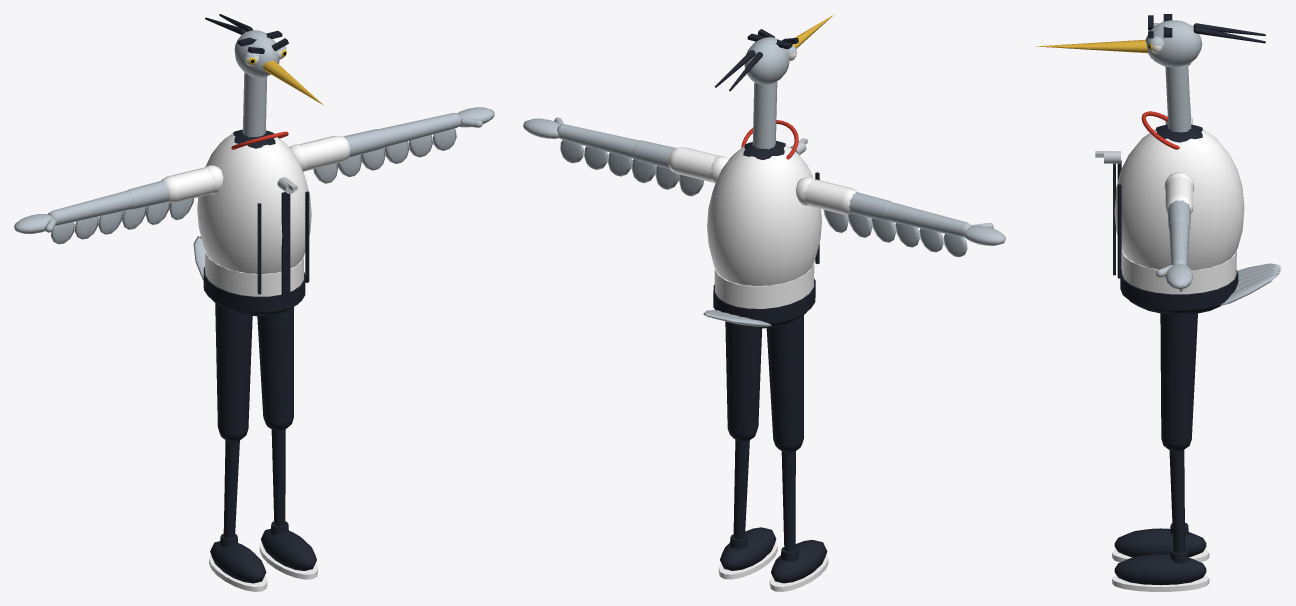
Rendered from referee_heron.glb.
3 renders of one model, left to right at view 1: azimuth 30°, elevation 25°; view 2: azimuth 150°, elevation 25°; view 3: azimuth 270°, elevation 25°, orthographic. The views are drawn at different scales.
Parts seen in each view (by area): view 1: referee_heron_body; view 2: referee_heron_body; view 3: referee_heron_body.
Part boxes in pixels (left/top/right/bottom): referee_heron_body: left=14, top=14, right=494, bottom=591; referee_heron_body: left=523, top=14, right=1005, bottom=591; referee_heron_body: left=1035, top=14, right=1281, bottom=591.
Bounding box in the file's own units: 2.01 × 2.13 × 0.8697.
